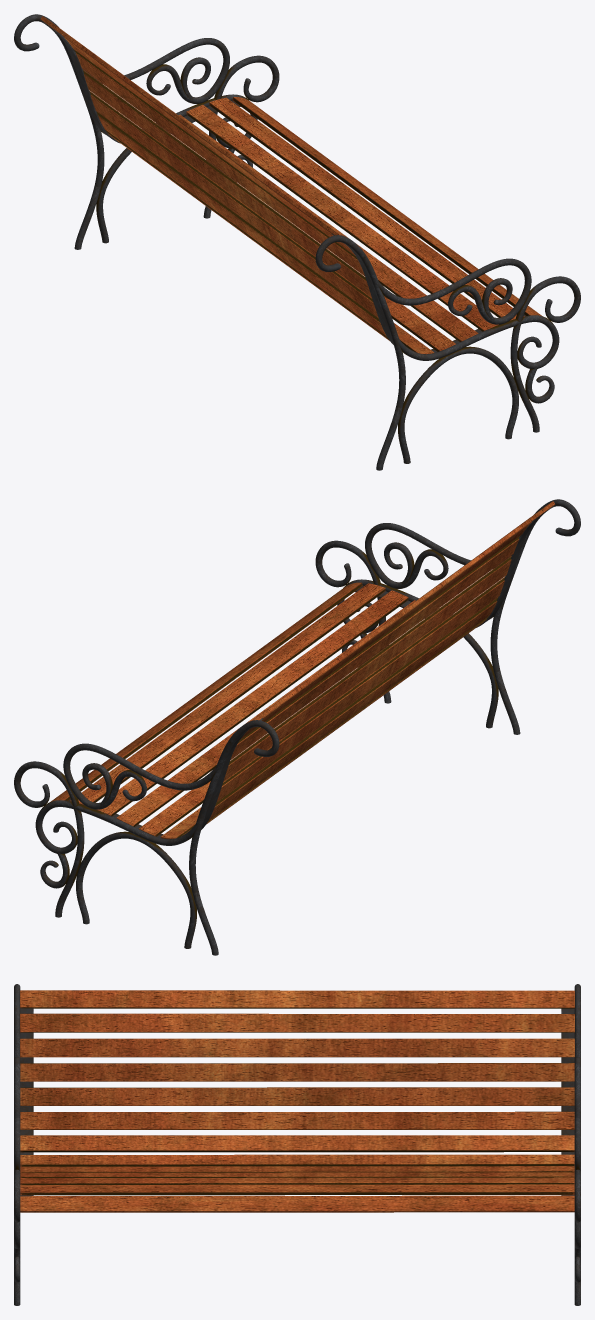
3 renders of one model, top to bottom at view 1: azimuth 30°, elevation 25°; view 2: azimuth 150°, elevation 25°; view 3: azimuth 270°, elevation 25°, orthographic. The views are drawn at different scales.
Parts seen in each view (by area): view 1: Bench_0; view 2: Bench_0; view 3: Bench_0.
Boxes of the visible parts, <box> form: Bench_0: <box>14,14,580,470</box>; Bench_0: <box>14,499,580,955</box>; Bench_0: <box>14,984,580,1305</box>.
Bounding box in the file's own units: 1.51 × 1.33 × 3.01.
Materials: 1 (1 with a texture image).
